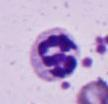N: (28, 26, 80, 80)
